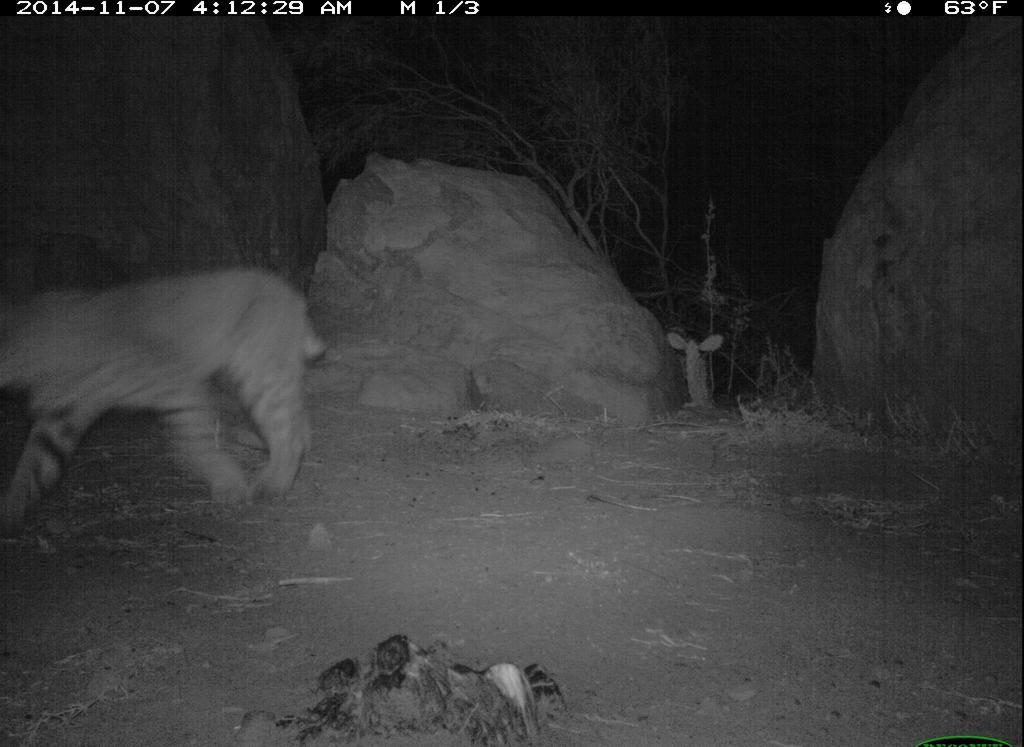bobcat: (1, 253, 335, 535)
